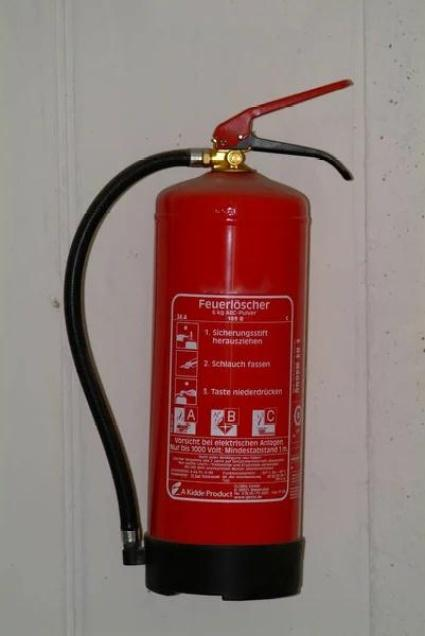APAR: (143, 77, 356, 600)
